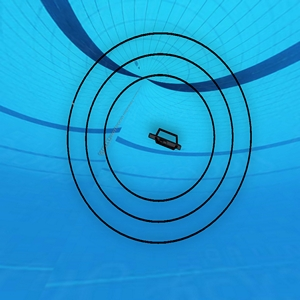circle: (66, 31, 251, 242)
submarine: (149, 126, 183, 149)
